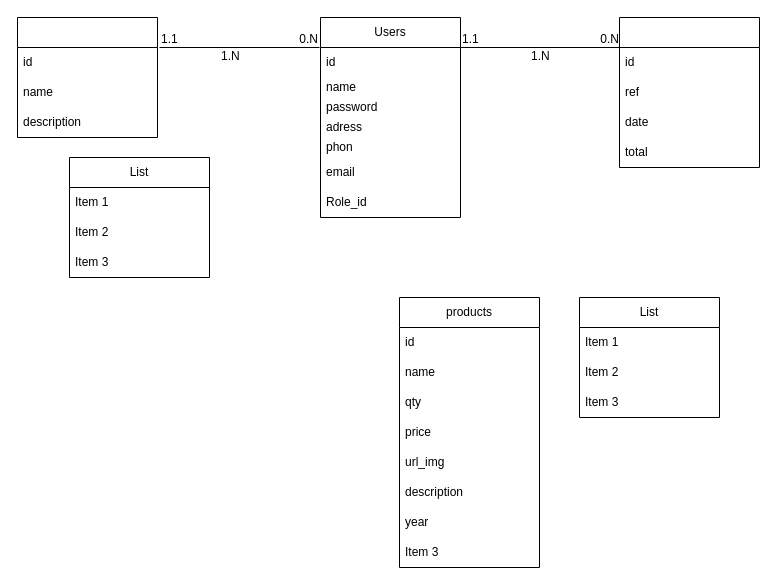
Some shapes in this 777 by 585 pixel diagram are drawn without their labels. Each missing label, with the box of its shape:
Orders: (618, 16, 760, 168)
Roles: (16, 16, 158, 138)
